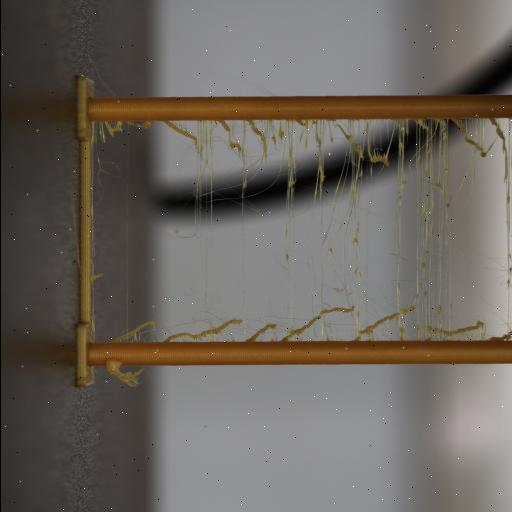stringing: (158, 118, 512, 342), (98, 359, 140, 391)
